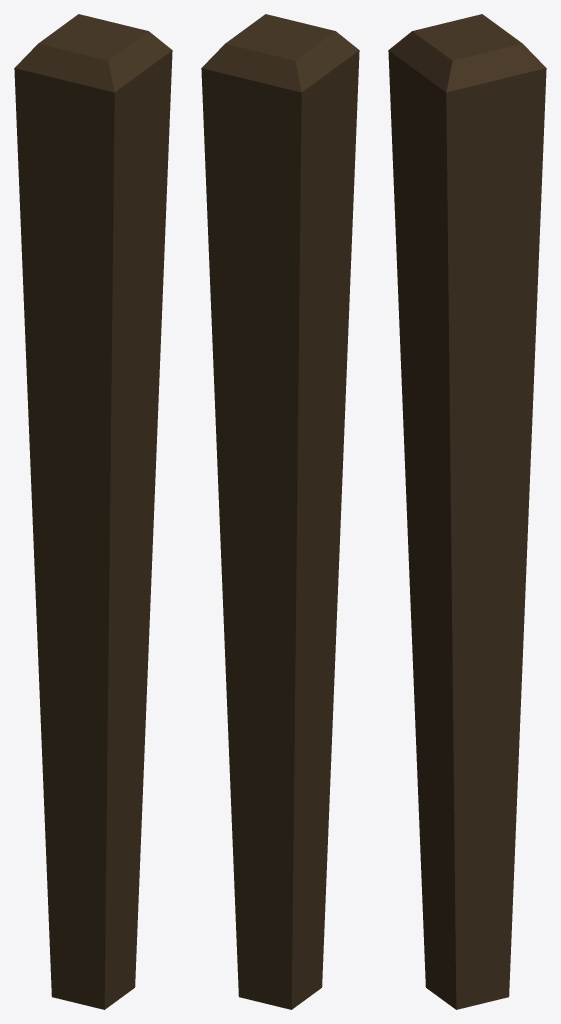
Rendered from fenceEndModule.glb.
3 renders of one model, left to right at view 1: azimuth 30°, elevation 25°; view 2: azimuth 210°, elevation 25°; view 3: azimuth 270°, elevation 25°, orthographic.
Parts seen in each view (by area): view 1: fenceEndModule; view 2: fenceEndModule; view 3: fenceEndModule.
Boxes of the visible parts, left/top/right/bottom form: fenceEndModule: left=14, top=14, right=172, bottom=1009; fenceEndModule: left=201, top=14, right=359, bottom=1009; fenceEndModule: left=388, top=14, right=546, bottom=1009.
Bounding box in the file's own units: 0.2251 × 1.5 × 0.2251.
1 material, 1 textured.
